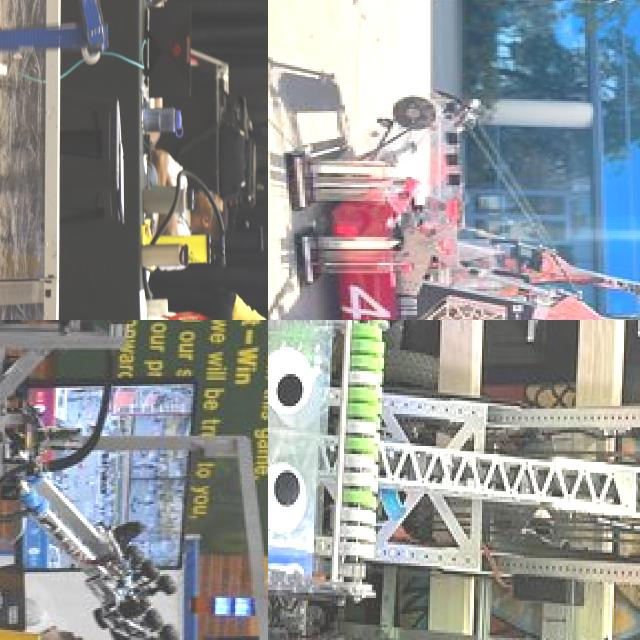FRC-Robots: (268, 320, 640, 640), (320, 159, 640, 320), (0, 320, 204, 569), (0, 0, 156, 199)
